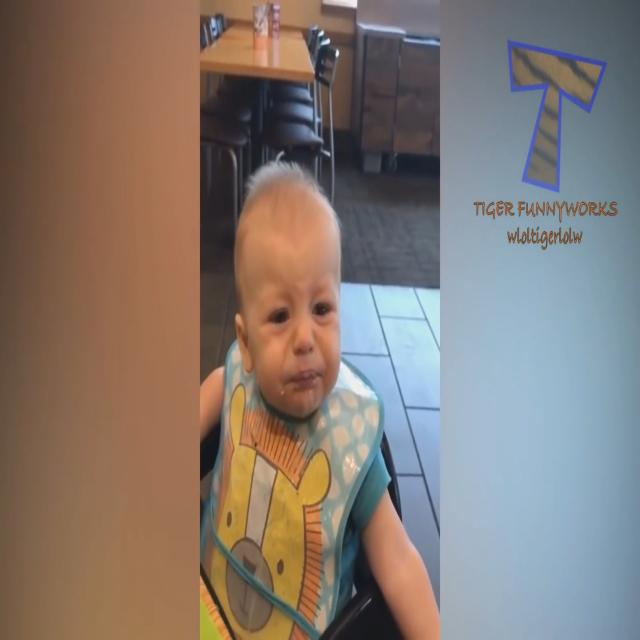dangerous: (204, 161, 357, 567)
